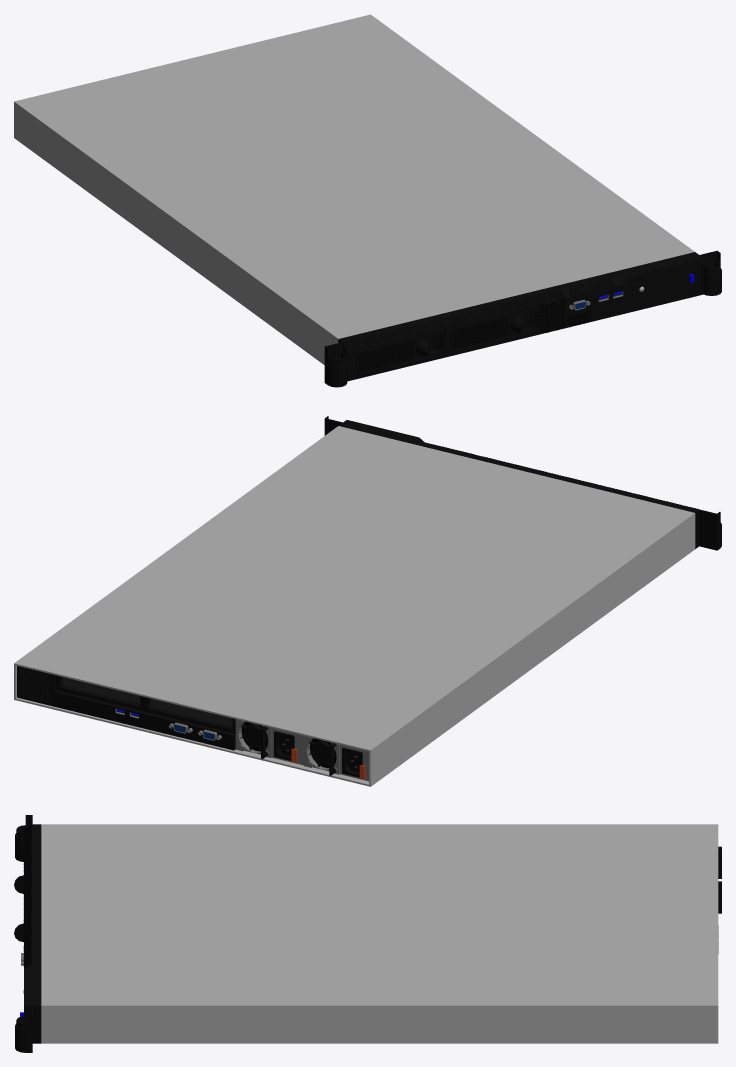
Rendered from IBM_X3550.fbx.
3 views of the same model, one above another, from view 1: azimuth 30°, elevation 25°; view 2: azimuth 150°, elevation 25°; view 3: azimuth 270°, elevation 25° (orthographic). The views are drawn at different scales.
Visible parts, largest first — view 1: IBM_X3550; view 2: IBM_X3550; view 3: IBM_X3550.
Part boxes in pixels (x1,y1,x2,y2): IBM_X3550: (14,14,721,387); IBM_X3550: (14,416,721,786); IBM_X3550: (14,815,721,1052).
Size of the model in its own units: 484 by 43.28 by 725.
Materials: 12 (1 with a texture image).
